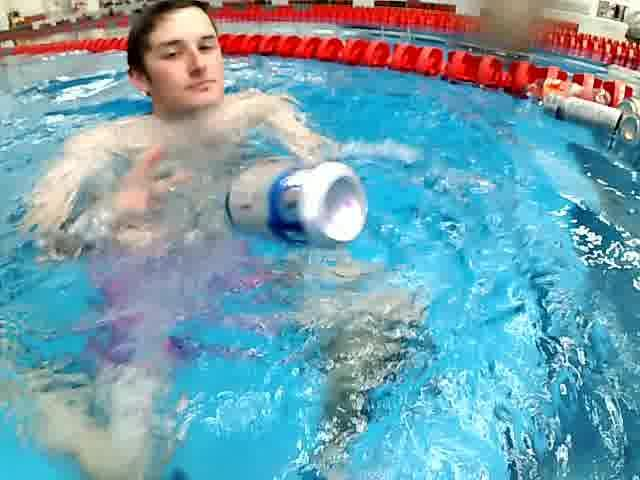Can: (222, 154, 370, 252)
